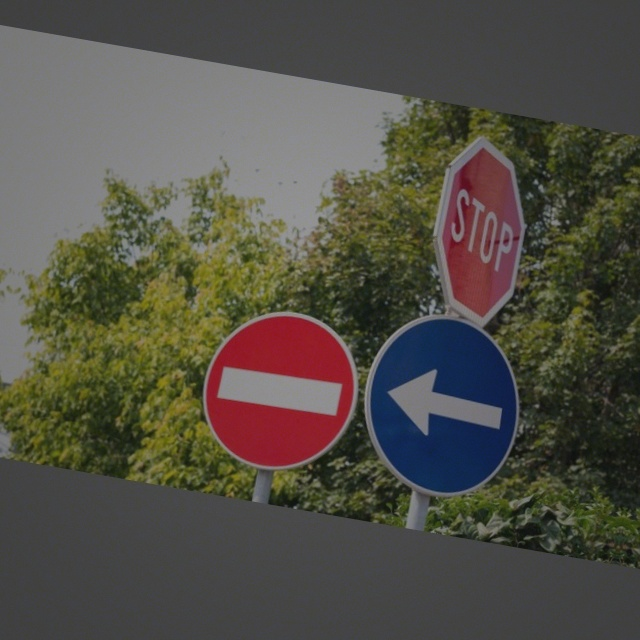Compulsory_Turn_Left: (351, 299, 536, 511)
